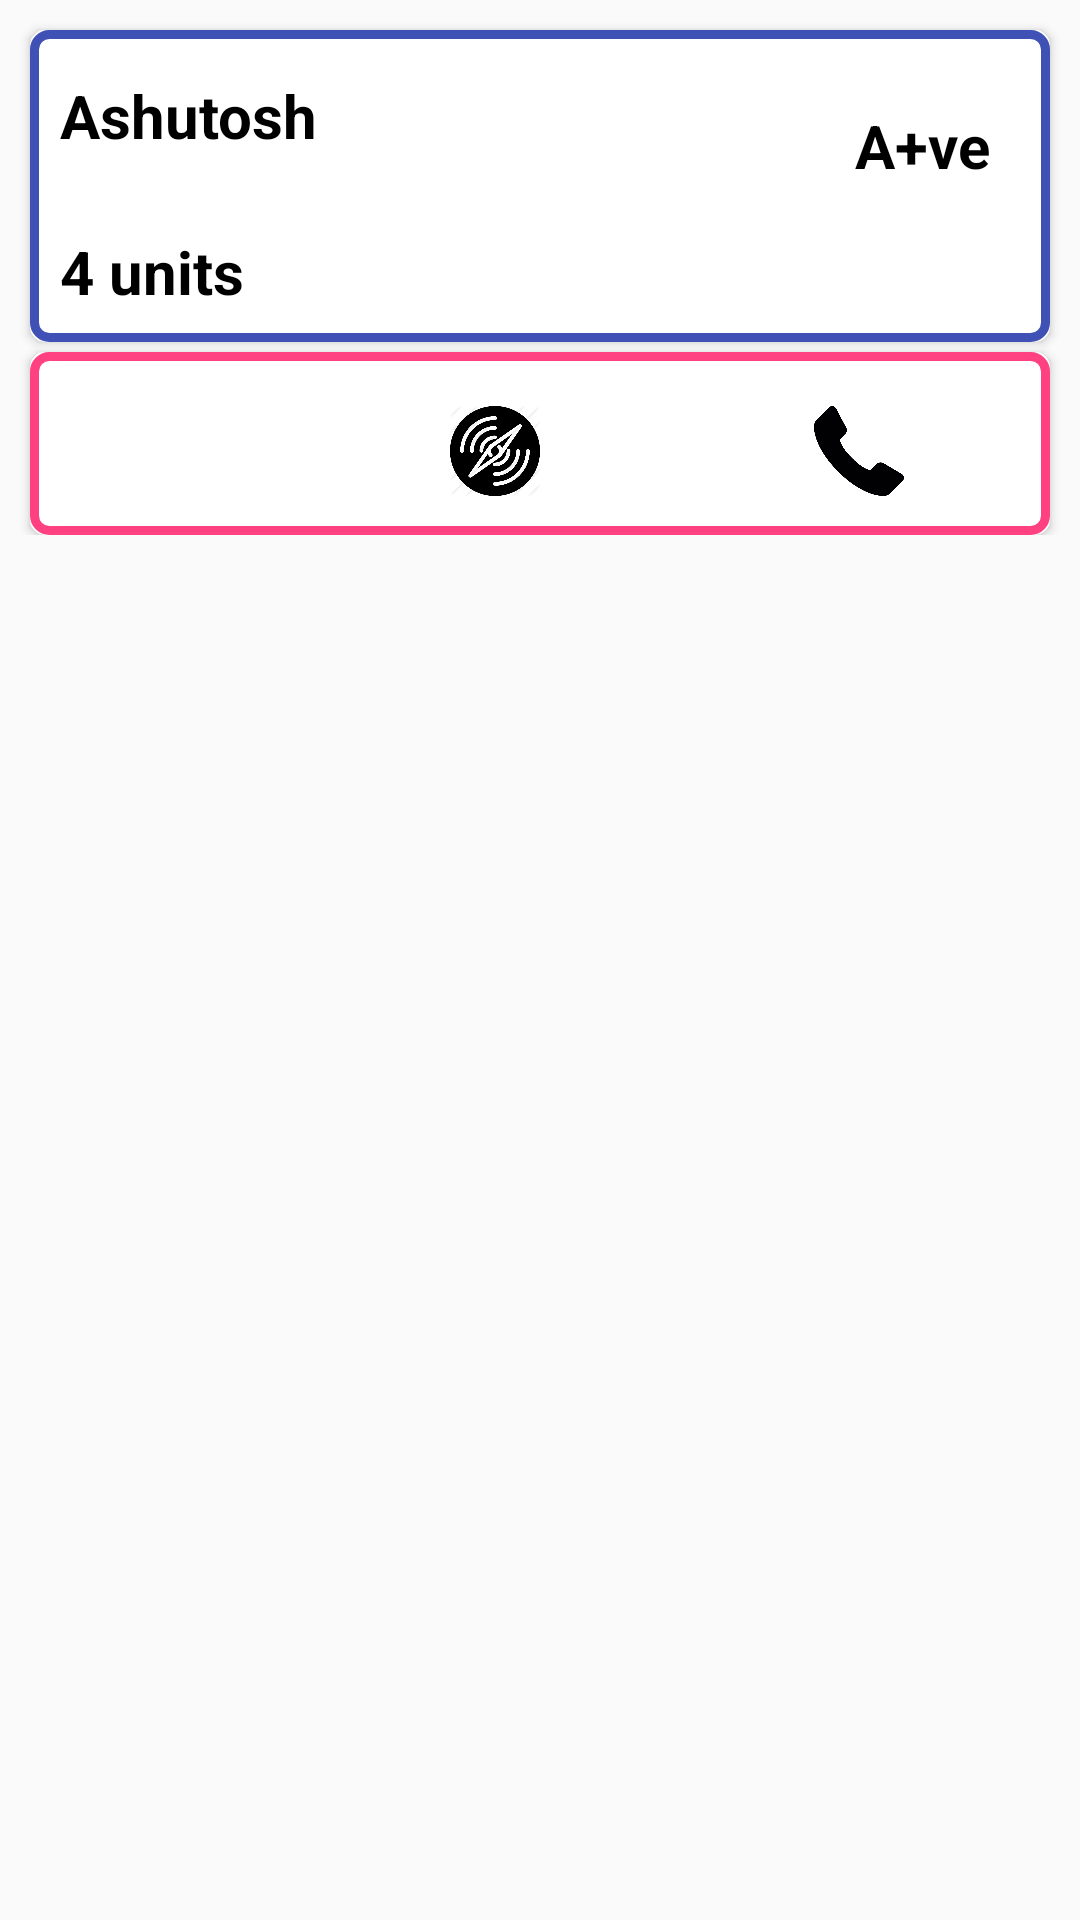

Locate icon controls on the screen. Image size 1080×1920, boxes as (x1=x1, y1=y1, x2=x2, y2=y2).
direction: (x1=450, y1=406, x2=540, y2=496)
phone: (x1=814, y1=406, x2=904, y2=496)
